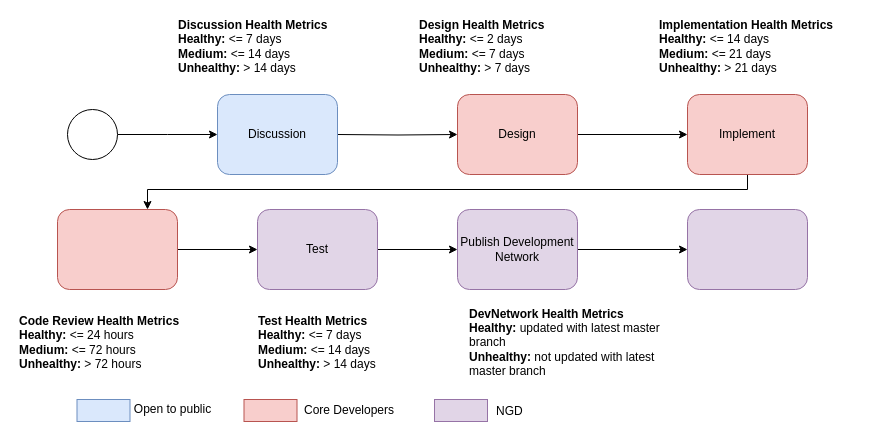
The diagram is 876 pixels wide and 439 high, and some of its shapes have lost their labels. The shapes that lost their labels are listed below. From the top down, each one's centre as x and y in pixels, then its label:
(117,249): Review
(747,249): Publish TestNetwork
